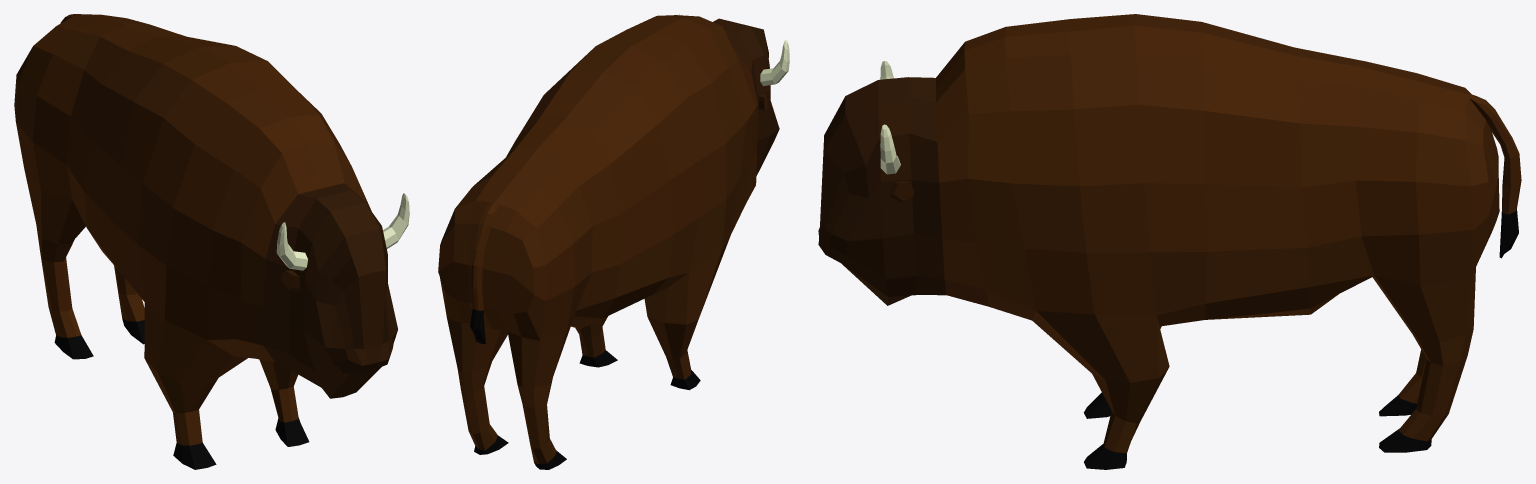
3 views of the same model, side by side, from view 1: azimuth 30°, elevation 25°; view 2: azimuth 150°, elevation 25°; view 3: azimuth 270°, elevation 25° (orthographic). The views are drawn at different scales.
Parts seen in each view (by area): view 1: 04bizonFinal_Plane.171; view 2: 04bizonFinal_Plane.171; view 3: 04bizonFinal_Plane.171.
Part boxes in pixels (x1,y1,x2,y2): 04bizonFinal_Plane.171: (14,14,409,469); 04bizonFinal_Plane.171: (438,14,789,469); 04bizonFinal_Plane.171: (818,14,1521,469).
Size of the model in its own units: 1.16 by 2.42 by 3.74.
